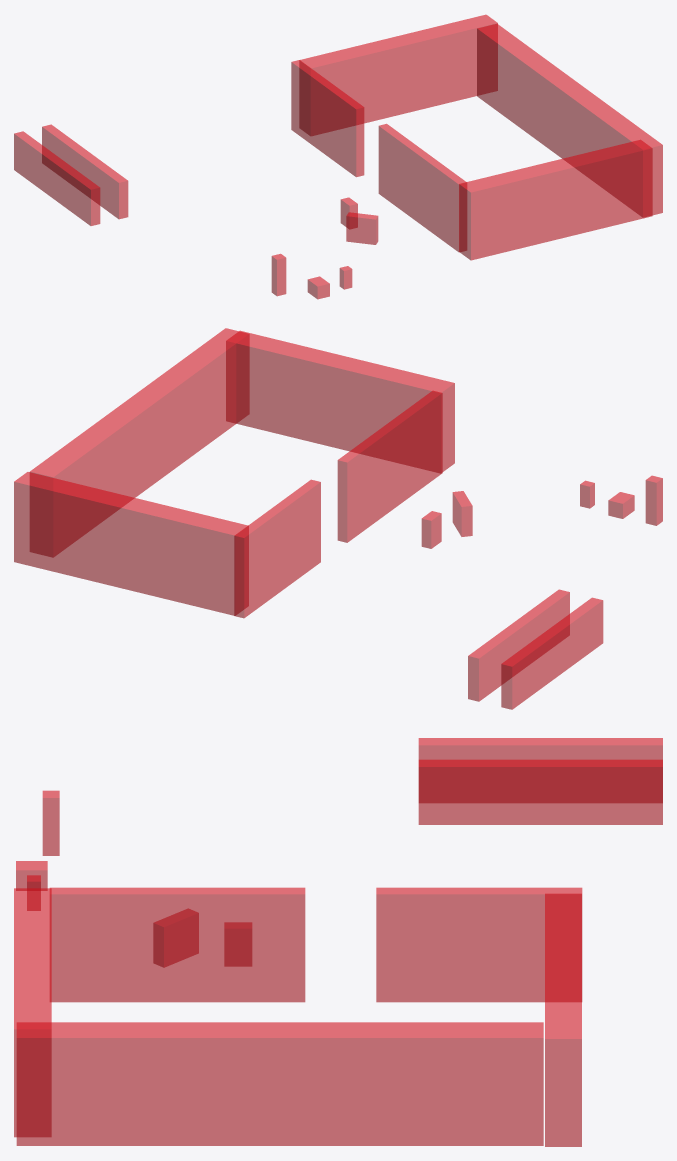
File: WorldADV03_Beach_Hitboxes.glb
3 views of the same model, one above another, from view 1: azimuth 30°, elevation 25°; view 2: azimuth 150°, elevation 25°; view 3: azimuth 270°, elevation 25° (orthographic). The views are drawn at different scales.
Parts seen in each view (by area): view 1: Cube.001_invisible.008, Cube.001_invisible.007, Cube.001_invisible.009, Cube.001_invisible.005, Cube.001_invisible.006, Cube.001_invisible.012, Cube.001_invisible.011, Cube.001_invisible.004, Cube.001_invisible, Cube.001_invisible.003, Cube.001_invisible.001; view 2: Cube.001_invisible.008, Cube.001_invisible.007, Cube.001_invisible.009, Cube.001_invisible.005, Cube.001_invisible.006, Cube.001_invisible.012, Cube.001_invisible.011, Cube.001_invisible, Cube.001_invisible.004, Cube.001_invisible.003, Cube.001_invisible.001; view 3: Cube.001_invisible.008, Cube.001_invisible.005, Cube.001_invisible.006, Cube.001_invisible.011, Cube.001_invisible.012, Cube.001_invisible.009, Cube.001_invisible.007, Cube.001_invisible.004, Cube.001_invisible.003, Cube.001_invisible, Cube.001_invisible.001.
Boxes of the visible parts, left/top/right/bottom form: Cube.001_invisible.008: left=477, top=24, right=662, bottom=217; Cube.001_invisible.007: left=299, top=14, right=497, bottom=135; Cube.001_invisible.009: left=459, top=140, right=652, bottom=260; Cube.001_invisible.005: left=378, top=124, right=466, bottom=252; Cube.001_invisible.006: left=291, top=60, right=364, bottom=176; Cube.001_invisible.012: left=14, top=131, right=100, bottom=225; Cube.001_invisible.011: left=42, top=124, right=128, bottom=219; Cube.001_invisible.004: left=346, top=212, right=378, bottom=244; Cube.001_invisible: left=271, top=254, right=286, bottom=296; Cube.001_invisible.003: left=340, top=197, right=357, bottom=228; Cube.001_invisible.001: left=307, top=276, right=329, bottom=299; Cube.001_invisible.008: left=30, top=328, right=249, bottom=557; Cube.001_invisible.007: left=14, top=472, right=248, bottom=615; Cube.001_invisible.009: left=226, top=330, right=454, bottom=473; Cube.001_invisible.005: left=337, top=390, right=442, bottom=542; Cube.001_invisible.006: left=234, top=479, right=320, bottom=618; Cube.001_invisible.012: left=501, top=597, right=603, bottom=709; Cube.001_invisible.011: left=468, top=589, right=569, bottom=701; Cube.001_invisible: left=645, top=475, right=662, bottom=525; Cube.001_invisible.004: left=452, top=491, right=472, bottom=536; Cube.001_invisible.003: left=421, top=511, right=441, bottom=548; Cube.001_invisible.001: left=608, top=492, right=634, bottom=518; Cube.001_invisible.008: left=16, top=1022, right=543, bottom=1145; Cube.001_invisible.005: left=49, top=887, right=305, bottom=1002; Cube.001_invisible.006: left=376, top=887, right=582, bottom=1002; Cube.001_invisible.011: left=418, top=759, right=662, bottom=824; Cube.001_invisible.012: left=418, top=738, right=662, bottom=802; Cube.001_invisible.009: left=14, top=888, right=51, bottom=1137; Cube.001_invisible.007: left=545, top=894, right=581, bottom=1146; Cube.001_invisible.004: left=153, top=909, right=198, bottom=967; Cube.001_invisible.003: left=224, top=922, right=251, bottom=966; Cube.001_invisible: left=42, top=790, right=59, bottom=855; Cube.001_invisible.001: left=16, top=861, right=47, bottom=890.
Size of what is drawn, in the model's own units: 23.87 by 3.68 by 18.9.
